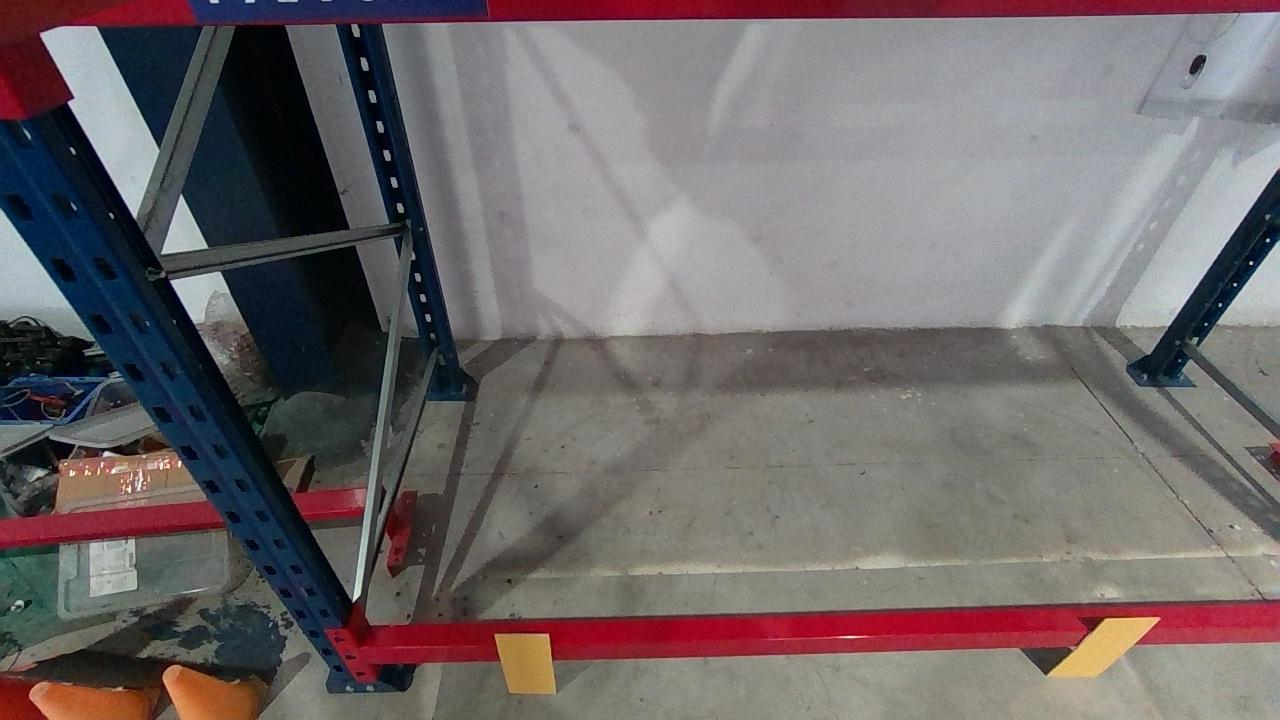h_rack: (356, 605, 1275, 663), (60, 0, 1258, 26)
orange_strip: (1048, 617, 1164, 678), (492, 634, 554, 692)
